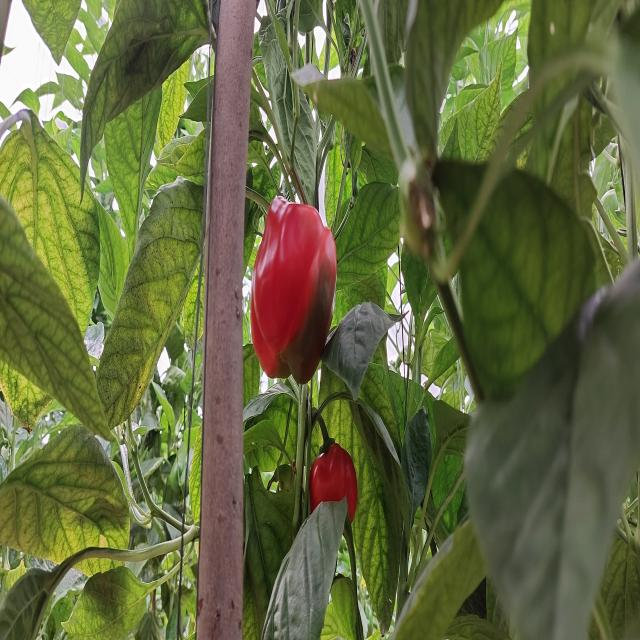BrownishRed--Can-be-Harvested: (250, 193, 335, 390)
Red-Ready-to-Harvest: (309, 445, 359, 541)
